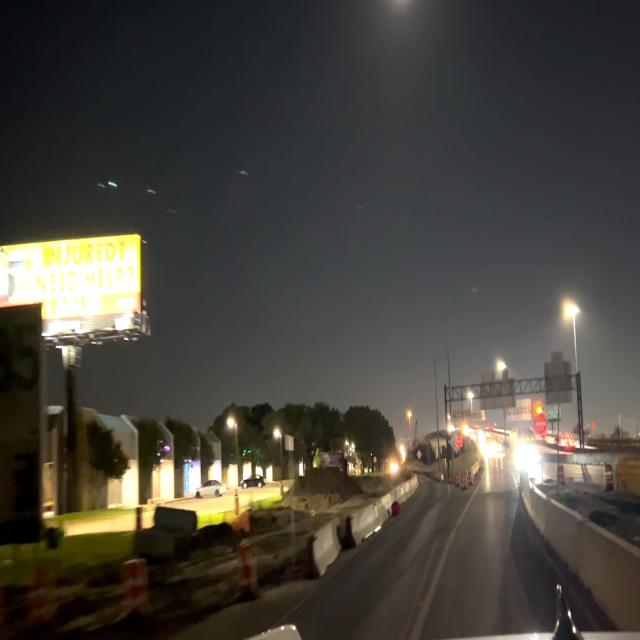back-of-sign: (542, 344, 576, 409), (478, 365, 520, 413)
